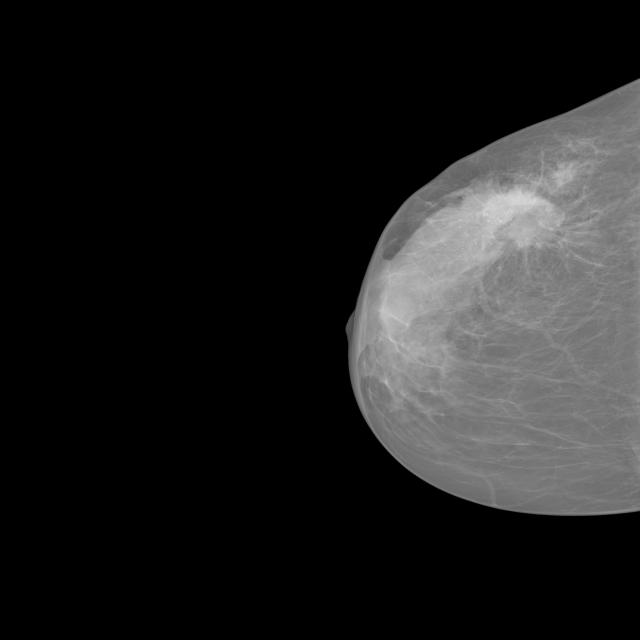Mass_1: (540, 158, 586, 193)
Mass_2: (460, 171, 581, 259)
